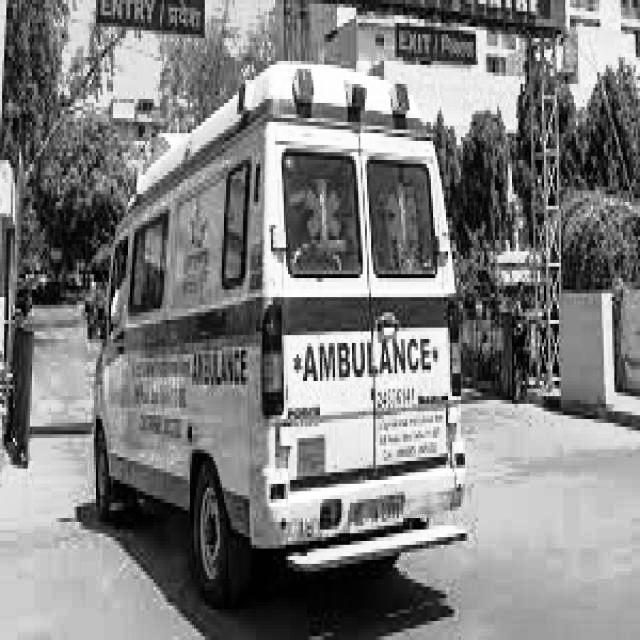LCV: (266, 71, 460, 531)
